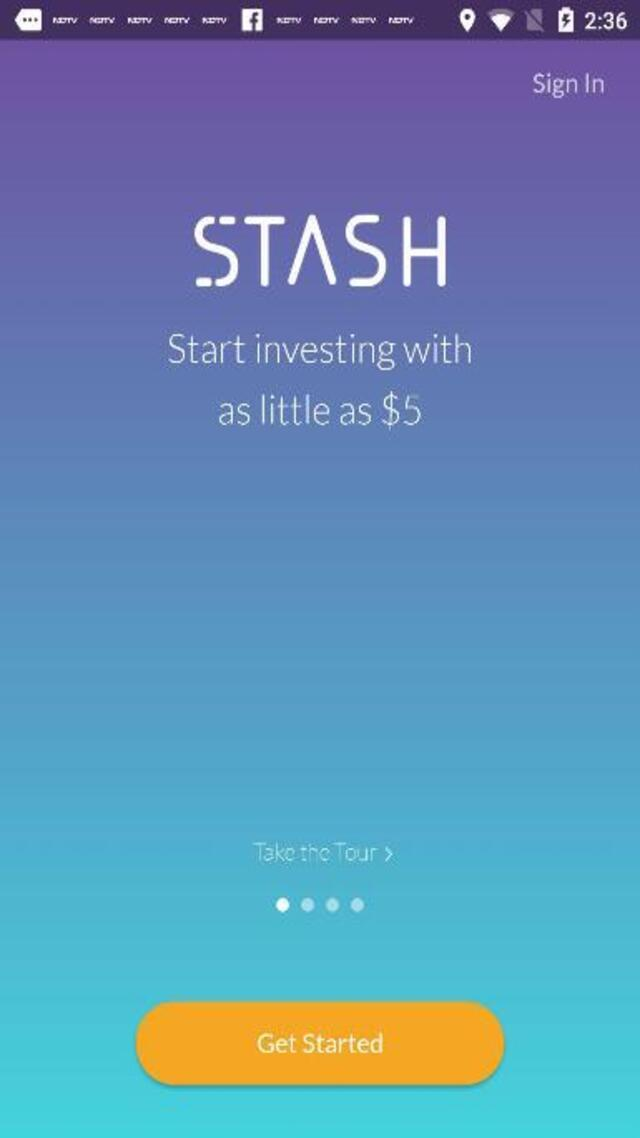Image: (192, 213, 446, 288)
Text: (160, 332, 478, 376), (213, 391, 428, 430), (256, 1029, 386, 1057), (254, 841, 394, 862), (533, 72, 604, 99)
TextButton: (134, 1000, 503, 1084)
